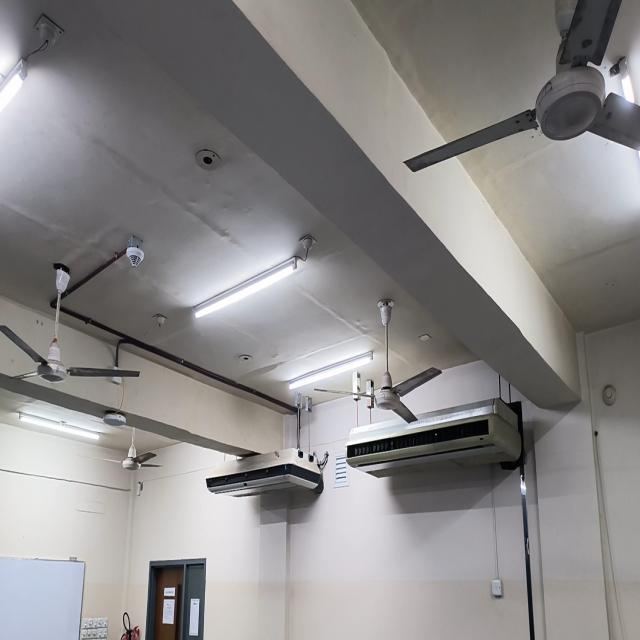Ac: (345, 398, 523, 477), (206, 448, 328, 497)
Fire Extinguisher: (120, 612, 140, 639)
Light: (194, 235, 315, 317), (289, 351, 373, 389), (19, 412, 100, 440), (609, 57, 634, 103)
